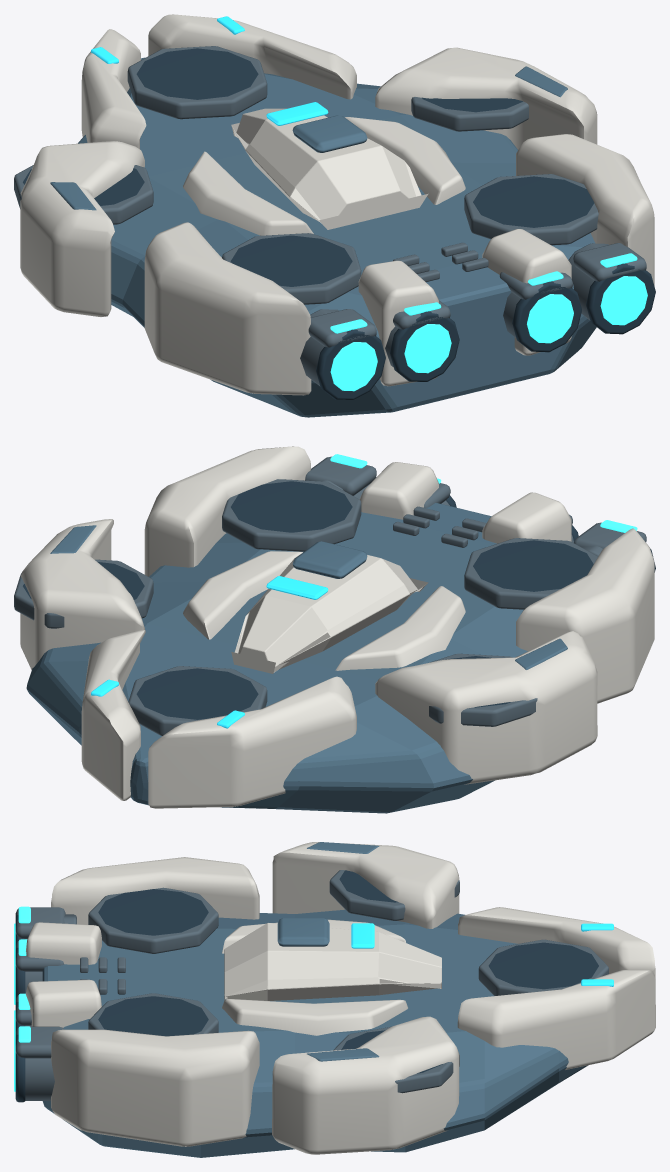
File: heavy_battleship.glb
3 views of the same model, one above another, from view 1: azimuth 30°, elevation 25°; view 2: azimuth 150°, elevation 25°; view 3: azimuth 270°, elevation 25° (orthographic). The views are drawn at different scales.
Visible parts, largest first — view 1: HullArmor, Engine01Mesh, Engine04Mesh, Engine03Mesh, Engine02Mesh; view 2: HullArmor; view 3: HullArmor, Engine04Mesh, Engine02Mesh.
Part boxes in pixels (x1,y1,x2,y2): HullArmor: [14, 14, 654, 417]; Engine01Mesh: [300, 309, 385, 399]; Engine04Mesh: [568, 243, 655, 334]; Engine03Mesh: [503, 281, 581, 352]; Engine02Mesh: [385, 311, 459, 381]; HullArmor: [14, 446, 654, 813]; HullArmor: [15, 842, 655, 1157]; Engine04Mesh: [14, 1034, 54, 1102]; Engine02Mesh: [14, 947, 42, 1004].
Bounding box in the file's own units: 6.03 × 1.86 × 6.81.
